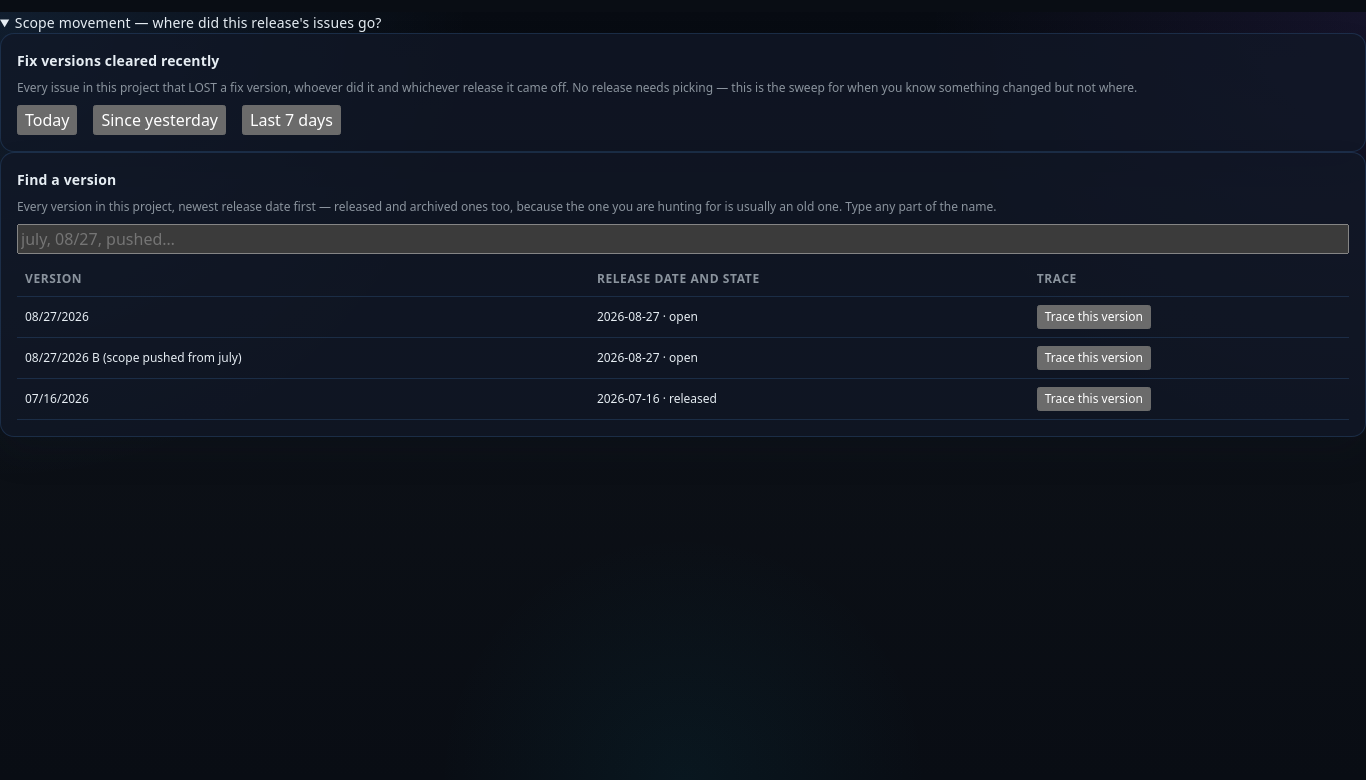
VersionMovementPanel — finding the version › says nothing matched rather than showing an empty table
Expected: the text "08/27/2026" is shown, [17,296,589,338]
Type "nonsense" into the field named "Filter versions" at (683, 239), box [17,224,1349,254]
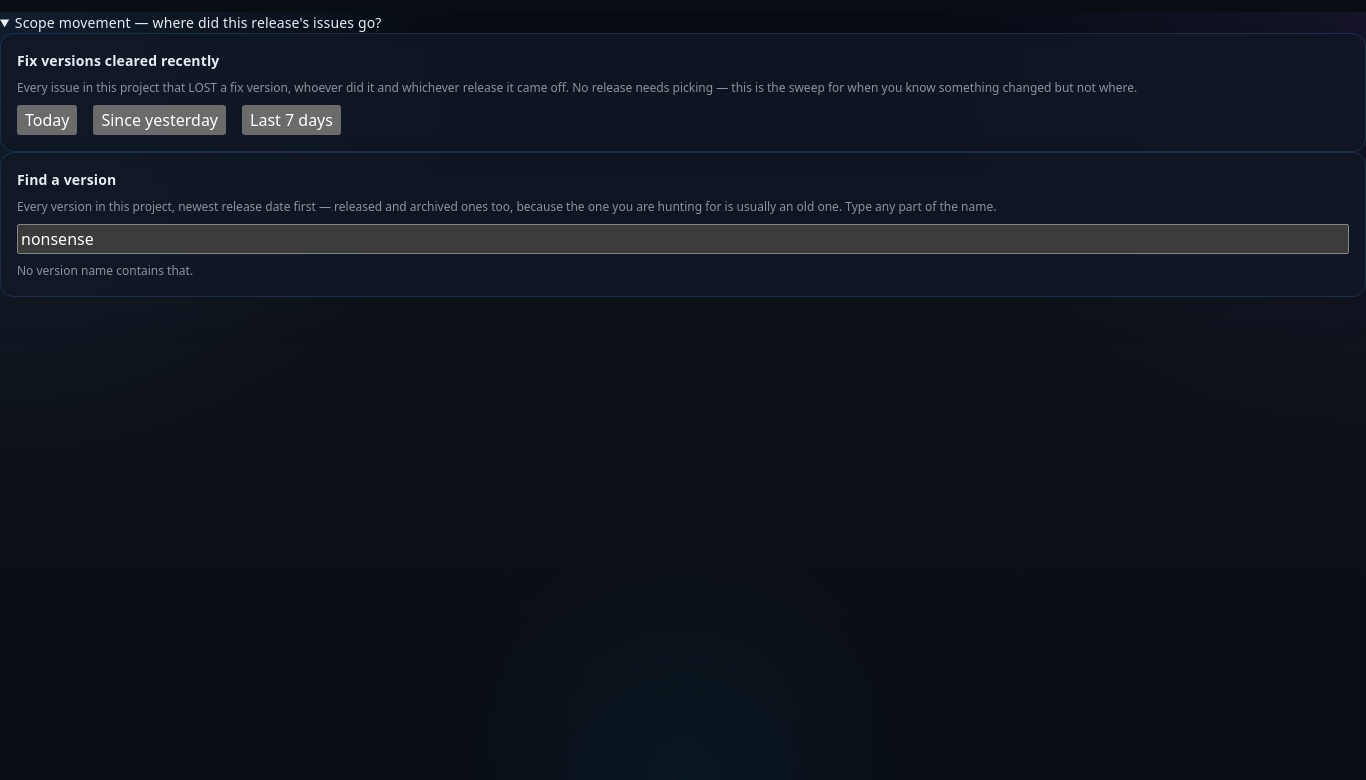
Expected: the text "No version name contains that." is shown, [17,262,193,279]
